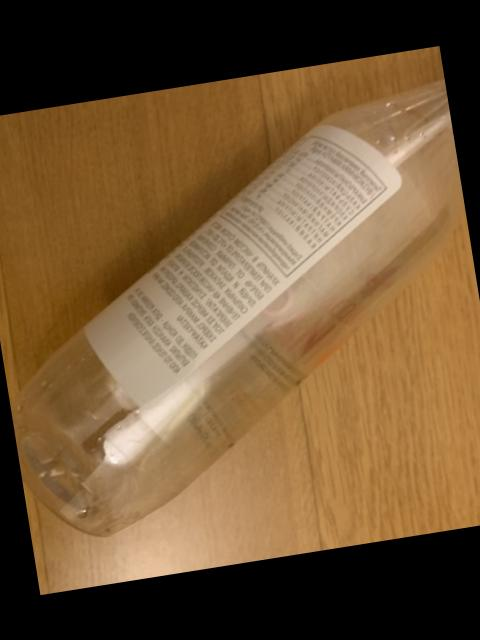plastic: (12, 82, 464, 537)
